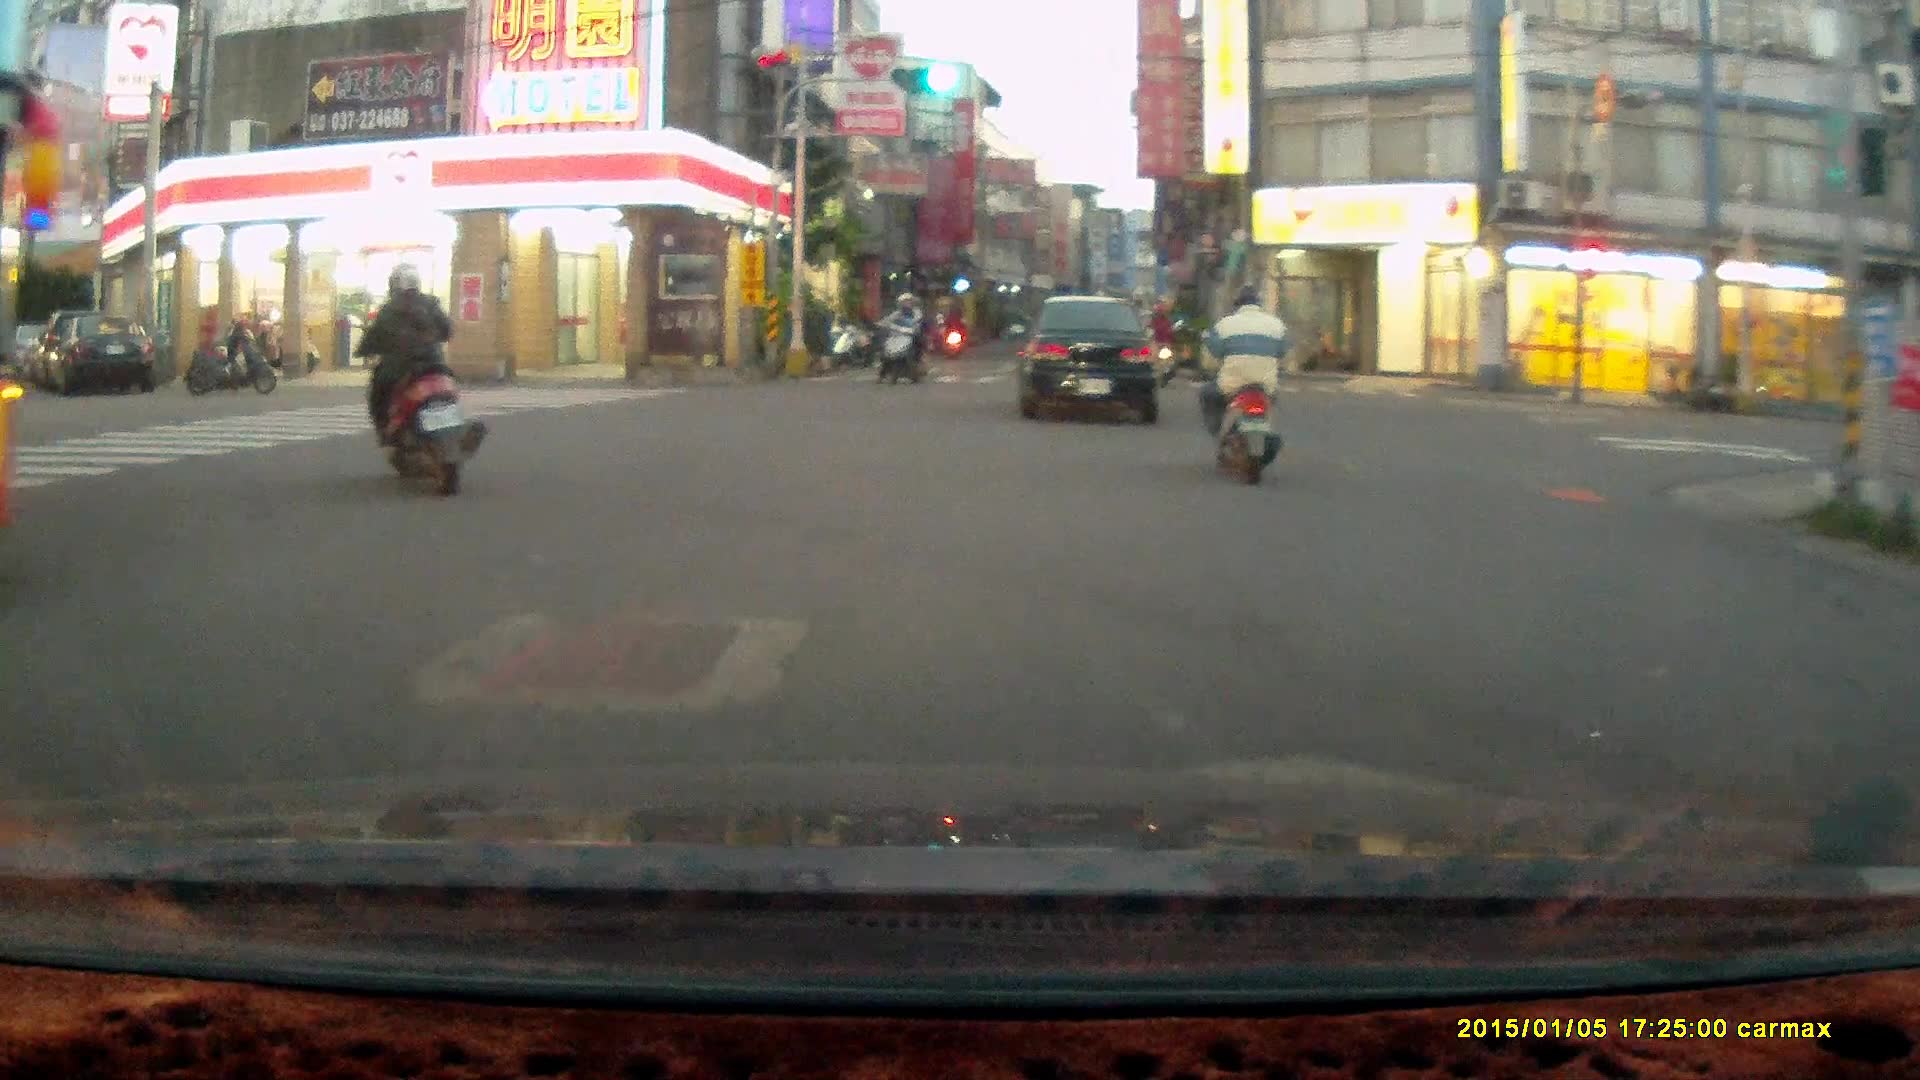rider: (341, 262, 486, 499), (1198, 282, 1288, 486), (870, 289, 929, 389), (1141, 295, 1178, 378)
vehicle: (1018, 294, 1164, 427), (64, 310, 157, 394)
